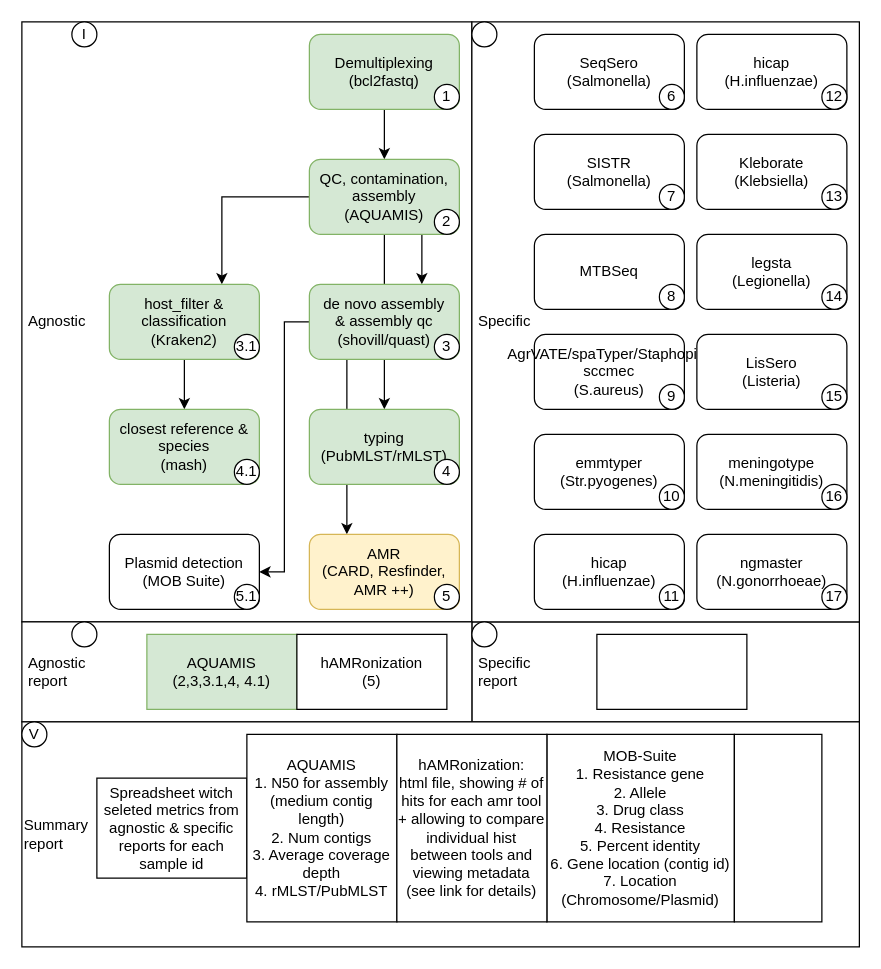
The diagram is 881 pixels wide and 969 high, and some of its shapes have lost their labels. The centre of each missing label's shape, as x and y in pixels:
"II" goes at pixel 484 34.
"III" goes at pixel 84 634.
"IV" goes at pixel 484 634.
"Species specific information" goes at pixel 777 827.
"Species-based results" goes at pixel 671 671.
